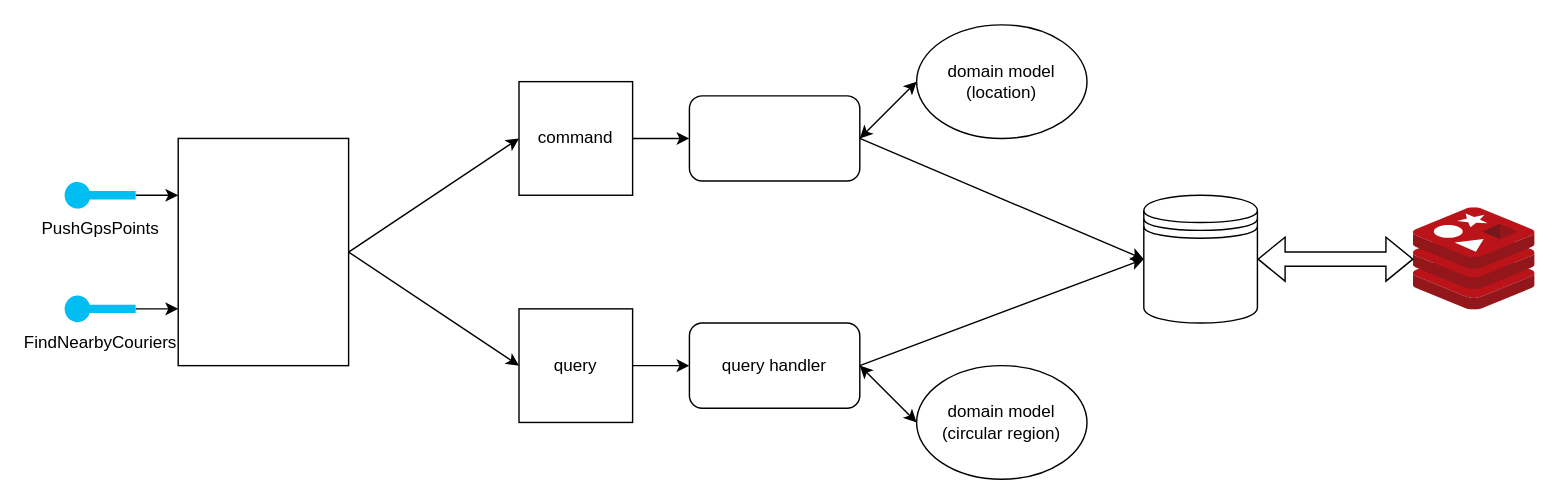
Some shapes in this 1561 by 504 pixel diagram are drawn without their labels. Here are the shapes that lost their labels. From the top down, the centre of each, then its label:
(774,137): command handler
(263,251): Handler
(1199,258): courier repository
